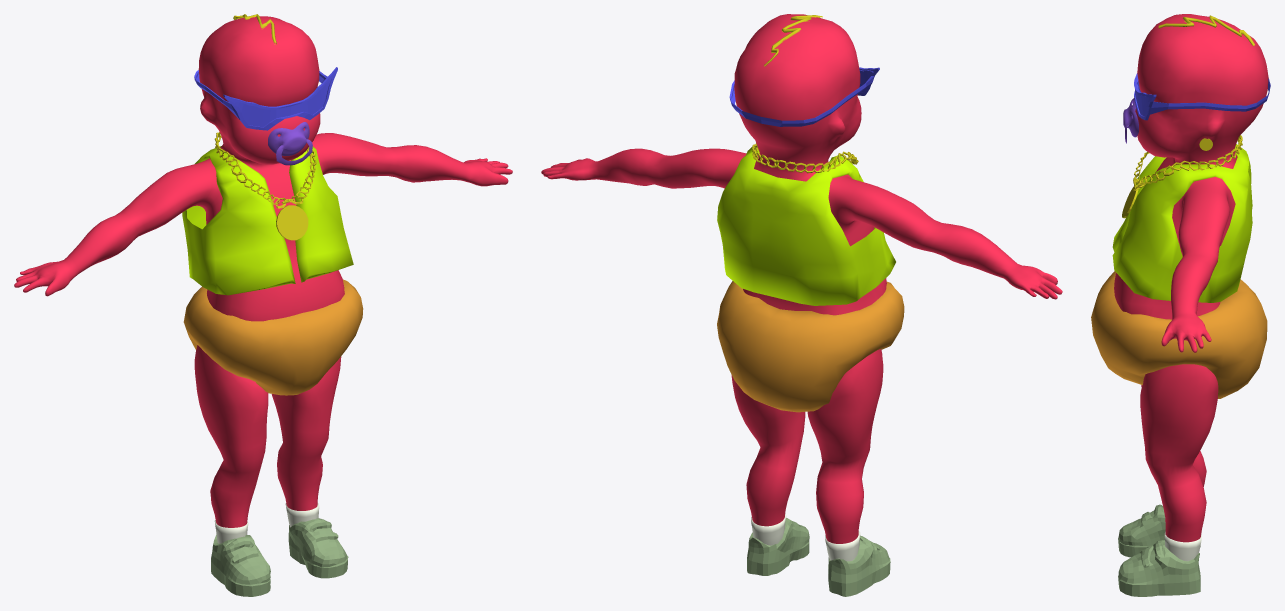
The model's file is Dancing.fbx.
3 renders of one model, left to right at view 1: azimuth 30°, elevation 25°; view 2: azimuth 150°, elevation 25°; view 3: azimuth 270°, elevation 25°, orthographic. The views are drawn at different scales.
Visible parts, largest first — view 1: Bobo; view 2: Bobo; view 3: Bobo.
Boxes of the visible parts, x1,y1,x2,y2 form: Bobo: [14, 14, 512, 596]; Bobo: [541, 14, 1062, 596]; Bobo: [1091, 14, 1270, 596].
Size of the model in its own units: 0.7189 by 0.7498 by 0.2224.
1 material, 1 textured.
